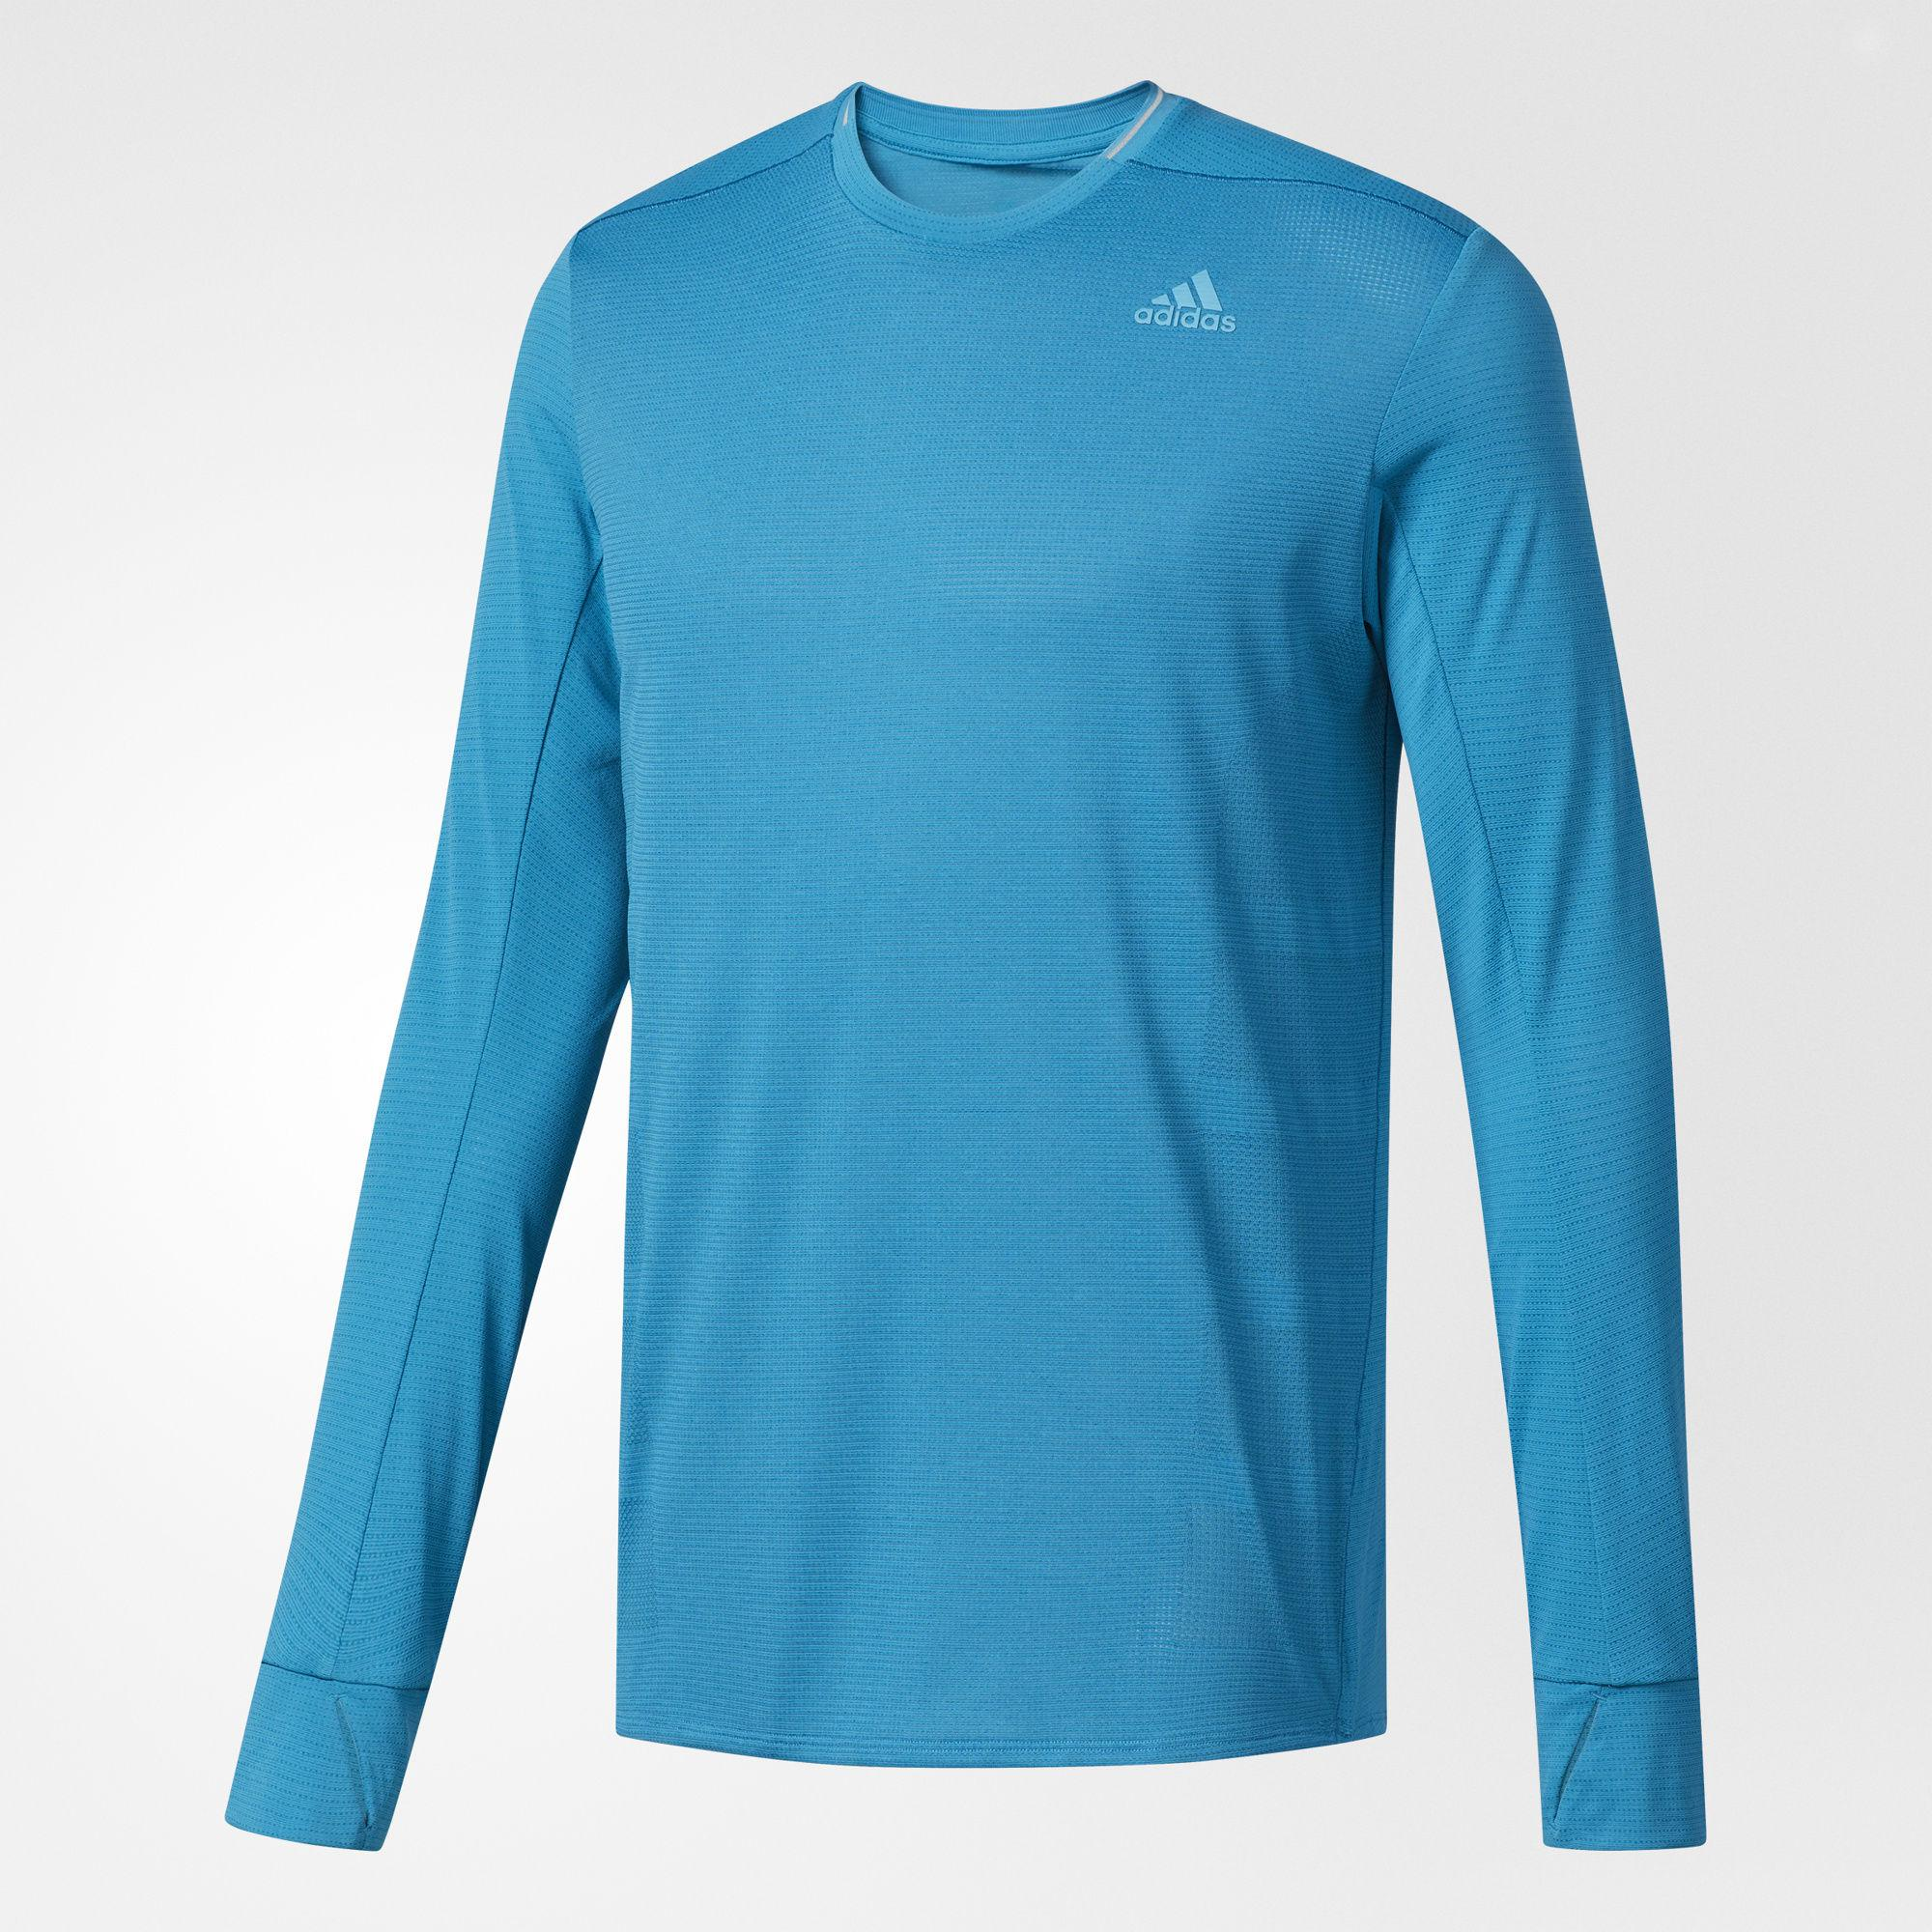teeshirt: (195, 85, 1932, 1930)
